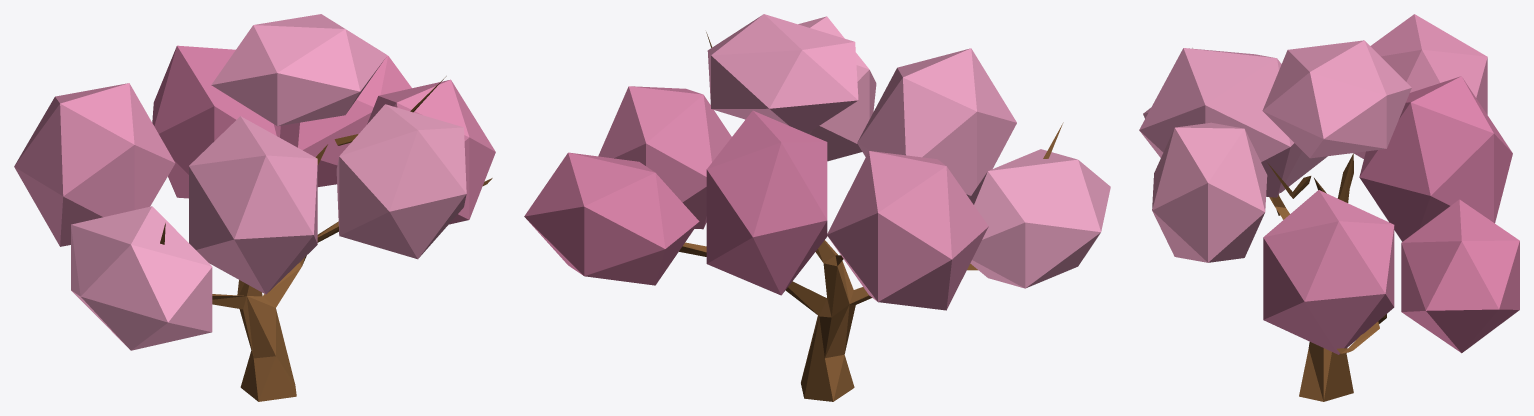
File: cherry_1_bloom_far.glb
3 views of the same model, side by side, from view 1: azimuth 30°, elevation 25°; view 2: azimuth 150°, elevation 25°; view 3: azimuth 270°, elevation 25° (orthographic).
Parts seen in each view (by area): view 1: cherry_1_bloom_far; view 2: cherry_1_bloom_far; view 3: cherry_1_bloom_far.
Boxes of the visible parts, x1=… form: cherry_1_bloom_far: x1=14, y1=14, x2=495, y2=401; cherry_1_bloom_far: x1=524, y1=14, x2=1110, y2=401; cherry_1_bloom_far: x1=1139, y1=14, x2=1519, y2=401.
Bounding box in the file's own units: 9.31 × 6.77 × 6.65.
